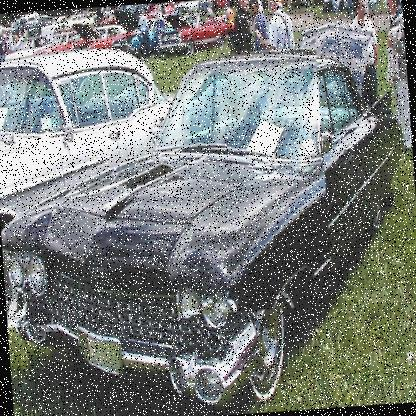Car: (0, 0, 336, 330)
